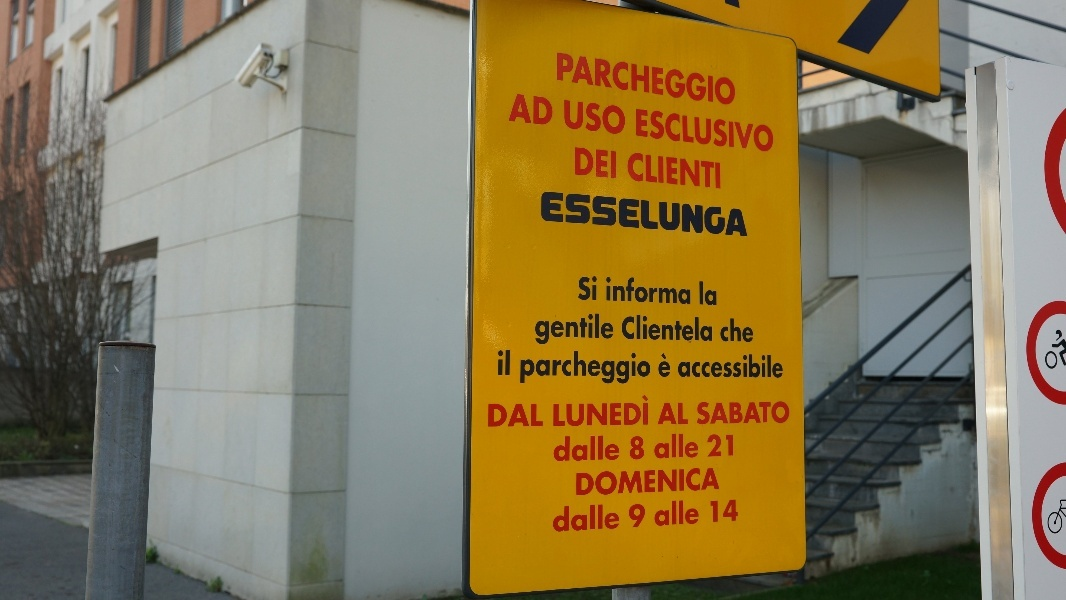text: (561, 50, 576, 110), (577, 50, 592, 110), (593, 50, 608, 110), (609, 50, 624, 110), (625, 50, 640, 110), (641, 50, 656, 110), (657, 50, 672, 110), (673, 50, 688, 110), (689, 50, 704, 110), (705, 50, 720, 110), (721, 50, 736, 110), (641, 108, 656, 157), (657, 108, 672, 157), (673, 108, 688, 157), (689, 108, 704, 157), (705, 108, 720, 157), (721, 108, 736, 157), (737, 108, 752, 157), (753, 108, 768, 157), (545, 189, 560, 238), (561, 189, 576, 238), (577, 189, 592, 238), (593, 189, 608, 238), (609, 189, 624, 238), (625, 189, 640, 238), (641, 189, 656, 238), (657, 189, 672, 238), (673, 189, 688, 238), (689, 189, 704, 238), (705, 189, 720, 238), (721, 189, 736, 238), (577, 98, 592, 140), (593, 98, 608, 140), (609, 98, 624, 140), (641, 151, 656, 191), (657, 151, 672, 191), (673, 151, 688, 191), (689, 151, 704, 191), (705, 151, 720, 191), (737, 189, 749, 238), (529, 348, 544, 385), (545, 348, 560, 385), (561, 348, 576, 385), (577, 348, 592, 385), (593, 348, 608, 385), (609, 348, 624, 385), (625, 348, 640, 385), (563, 98, 576, 140), (577, 146, 592, 181), (593, 146, 608, 181), (529, 93, 544, 127), (705, 466, 721, 497), (561, 394, 576, 427), (577, 394, 592, 427), (593, 394, 608, 427), (609, 394, 624, 427), (625, 394, 640, 427), (628, 151, 640, 191), (545, 313, 560, 345), (561, 313, 576, 345), (577, 313, 592, 345), (593, 313, 608, 345), (769, 350, 785, 380), (577, 466, 592, 497), (593, 466, 608, 497), (609, 466, 624, 497), (625, 466, 640, 497), (641, 466, 656, 497), (657, 466, 672, 497), (673, 466, 688, 497), (689, 466, 704, 497), (609, 276, 624, 306), (625, 276, 640, 306), (641, 276, 656, 306), (657, 276, 672, 306), (673, 276, 688, 306), (689, 350, 704, 380), (705, 350, 720, 380), (721, 350, 736, 380), (737, 350, 752, 380), (753, 350, 768, 380), (769, 108, 778, 157), (561, 504, 576, 533), (577, 504, 592, 533), (593, 504, 608, 533), (625, 315, 640, 343), (641, 315, 656, 343), (657, 315, 672, 343), (673, 315, 688, 343), (689, 315, 704, 343), (516, 93, 528, 127), (641, 348, 652, 385), (561, 435, 576, 462), (577, 435, 592, 462), (593, 435, 608, 462), (657, 500, 672, 527), (673, 500, 688, 527), (737, 318, 752, 344), (657, 434, 672, 460), (673, 434, 688, 460), (497, 403, 512, 428), (513, 403, 528, 428), (529, 403, 544, 428), (705, 401, 720, 426), (721, 401, 736, 426), (737, 401, 752, 426), (753, 401, 768, 426), (769, 401, 784, 426), (499, 349, 512, 377), (658, 353, 672, 379), (673, 402, 688, 426), (705, 279, 718, 306), (721, 500, 736, 523), (723, 318, 736, 344), (641, 394, 651, 427), (579, 276, 592, 301), (609, 435, 621, 462), (609, 504, 620, 533), (609, 146, 618, 181), (721, 434, 734, 458), (545, 93, 554, 127), (689, 500, 700, 527), (520, 348, 528, 385), (708, 434, 720, 458), (689, 434, 700, 460), (679, 350, 688, 380), (552, 394, 560, 427), (629, 504, 640, 528), (705, 315, 714, 343), (710, 500, 720, 523), (631, 436, 640, 461), (537, 313, 544, 345), (609, 313, 616, 345), (488, 403, 496, 428), (636, 108, 640, 157), (664, 402, 672, 426), (557, 50, 560, 110), (737, 50, 740, 110), (697, 401, 704, 426), (554, 504, 560, 533), (641, 504, 648, 528), (554, 435, 560, 462), (593, 276, 598, 301), (785, 401, 790, 426), (641, 436, 646, 461), (700, 279, 704, 306), (542, 189, 544, 238), (689, 276, 692, 306), (625, 98, 627, 140), (753, 318, 756, 344), (689, 402, 692, 426), (574, 146, 576, 181), (737, 500, 740, 523), (606, 276, 608, 306), (721, 151, 722, 191), (575, 466, 576, 497), (545, 403, 546, 428)
